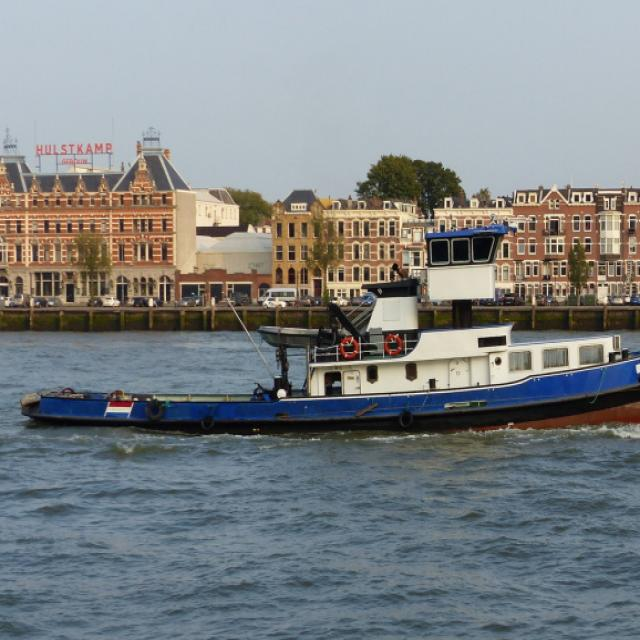tugboat: (16, 222, 640, 451)
